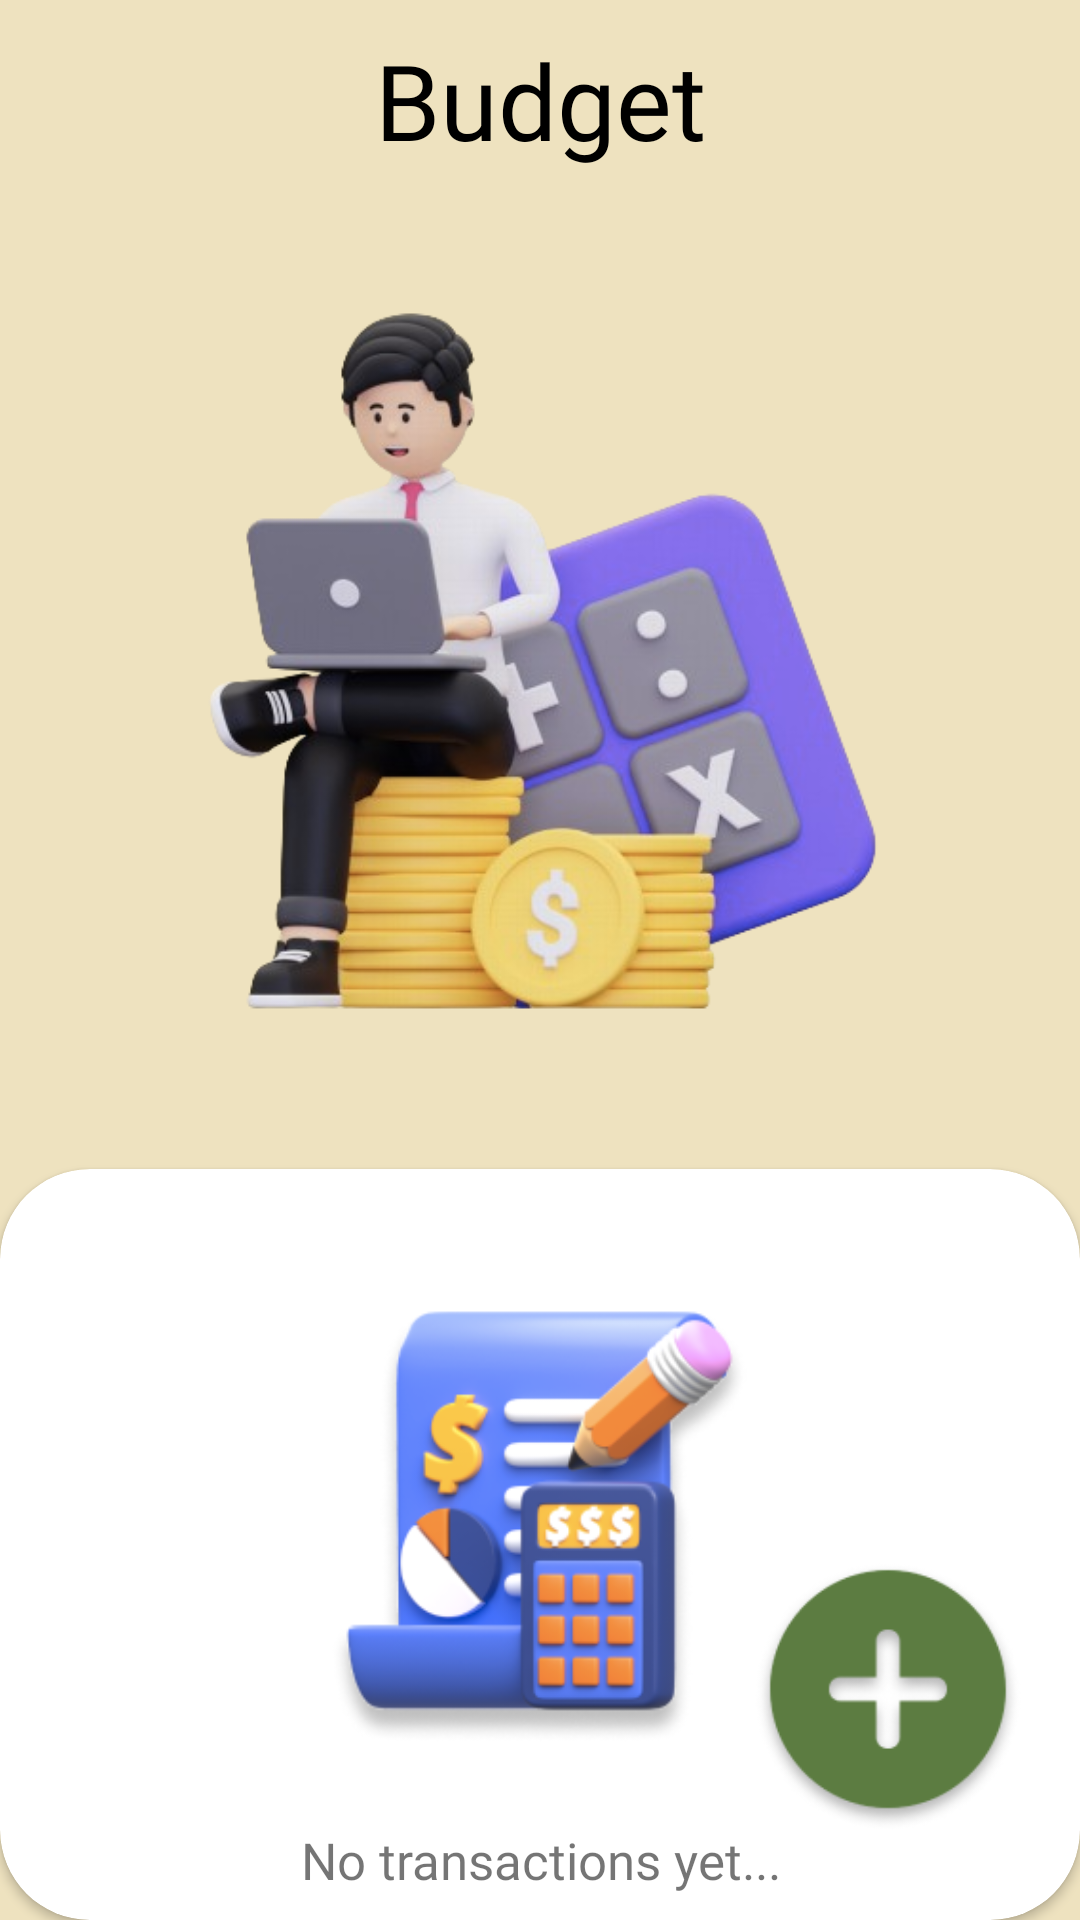

Screen size 1080 × 1920. Icon name, then its center in pixels as [x,y]:
addbutton: [888,1694]
